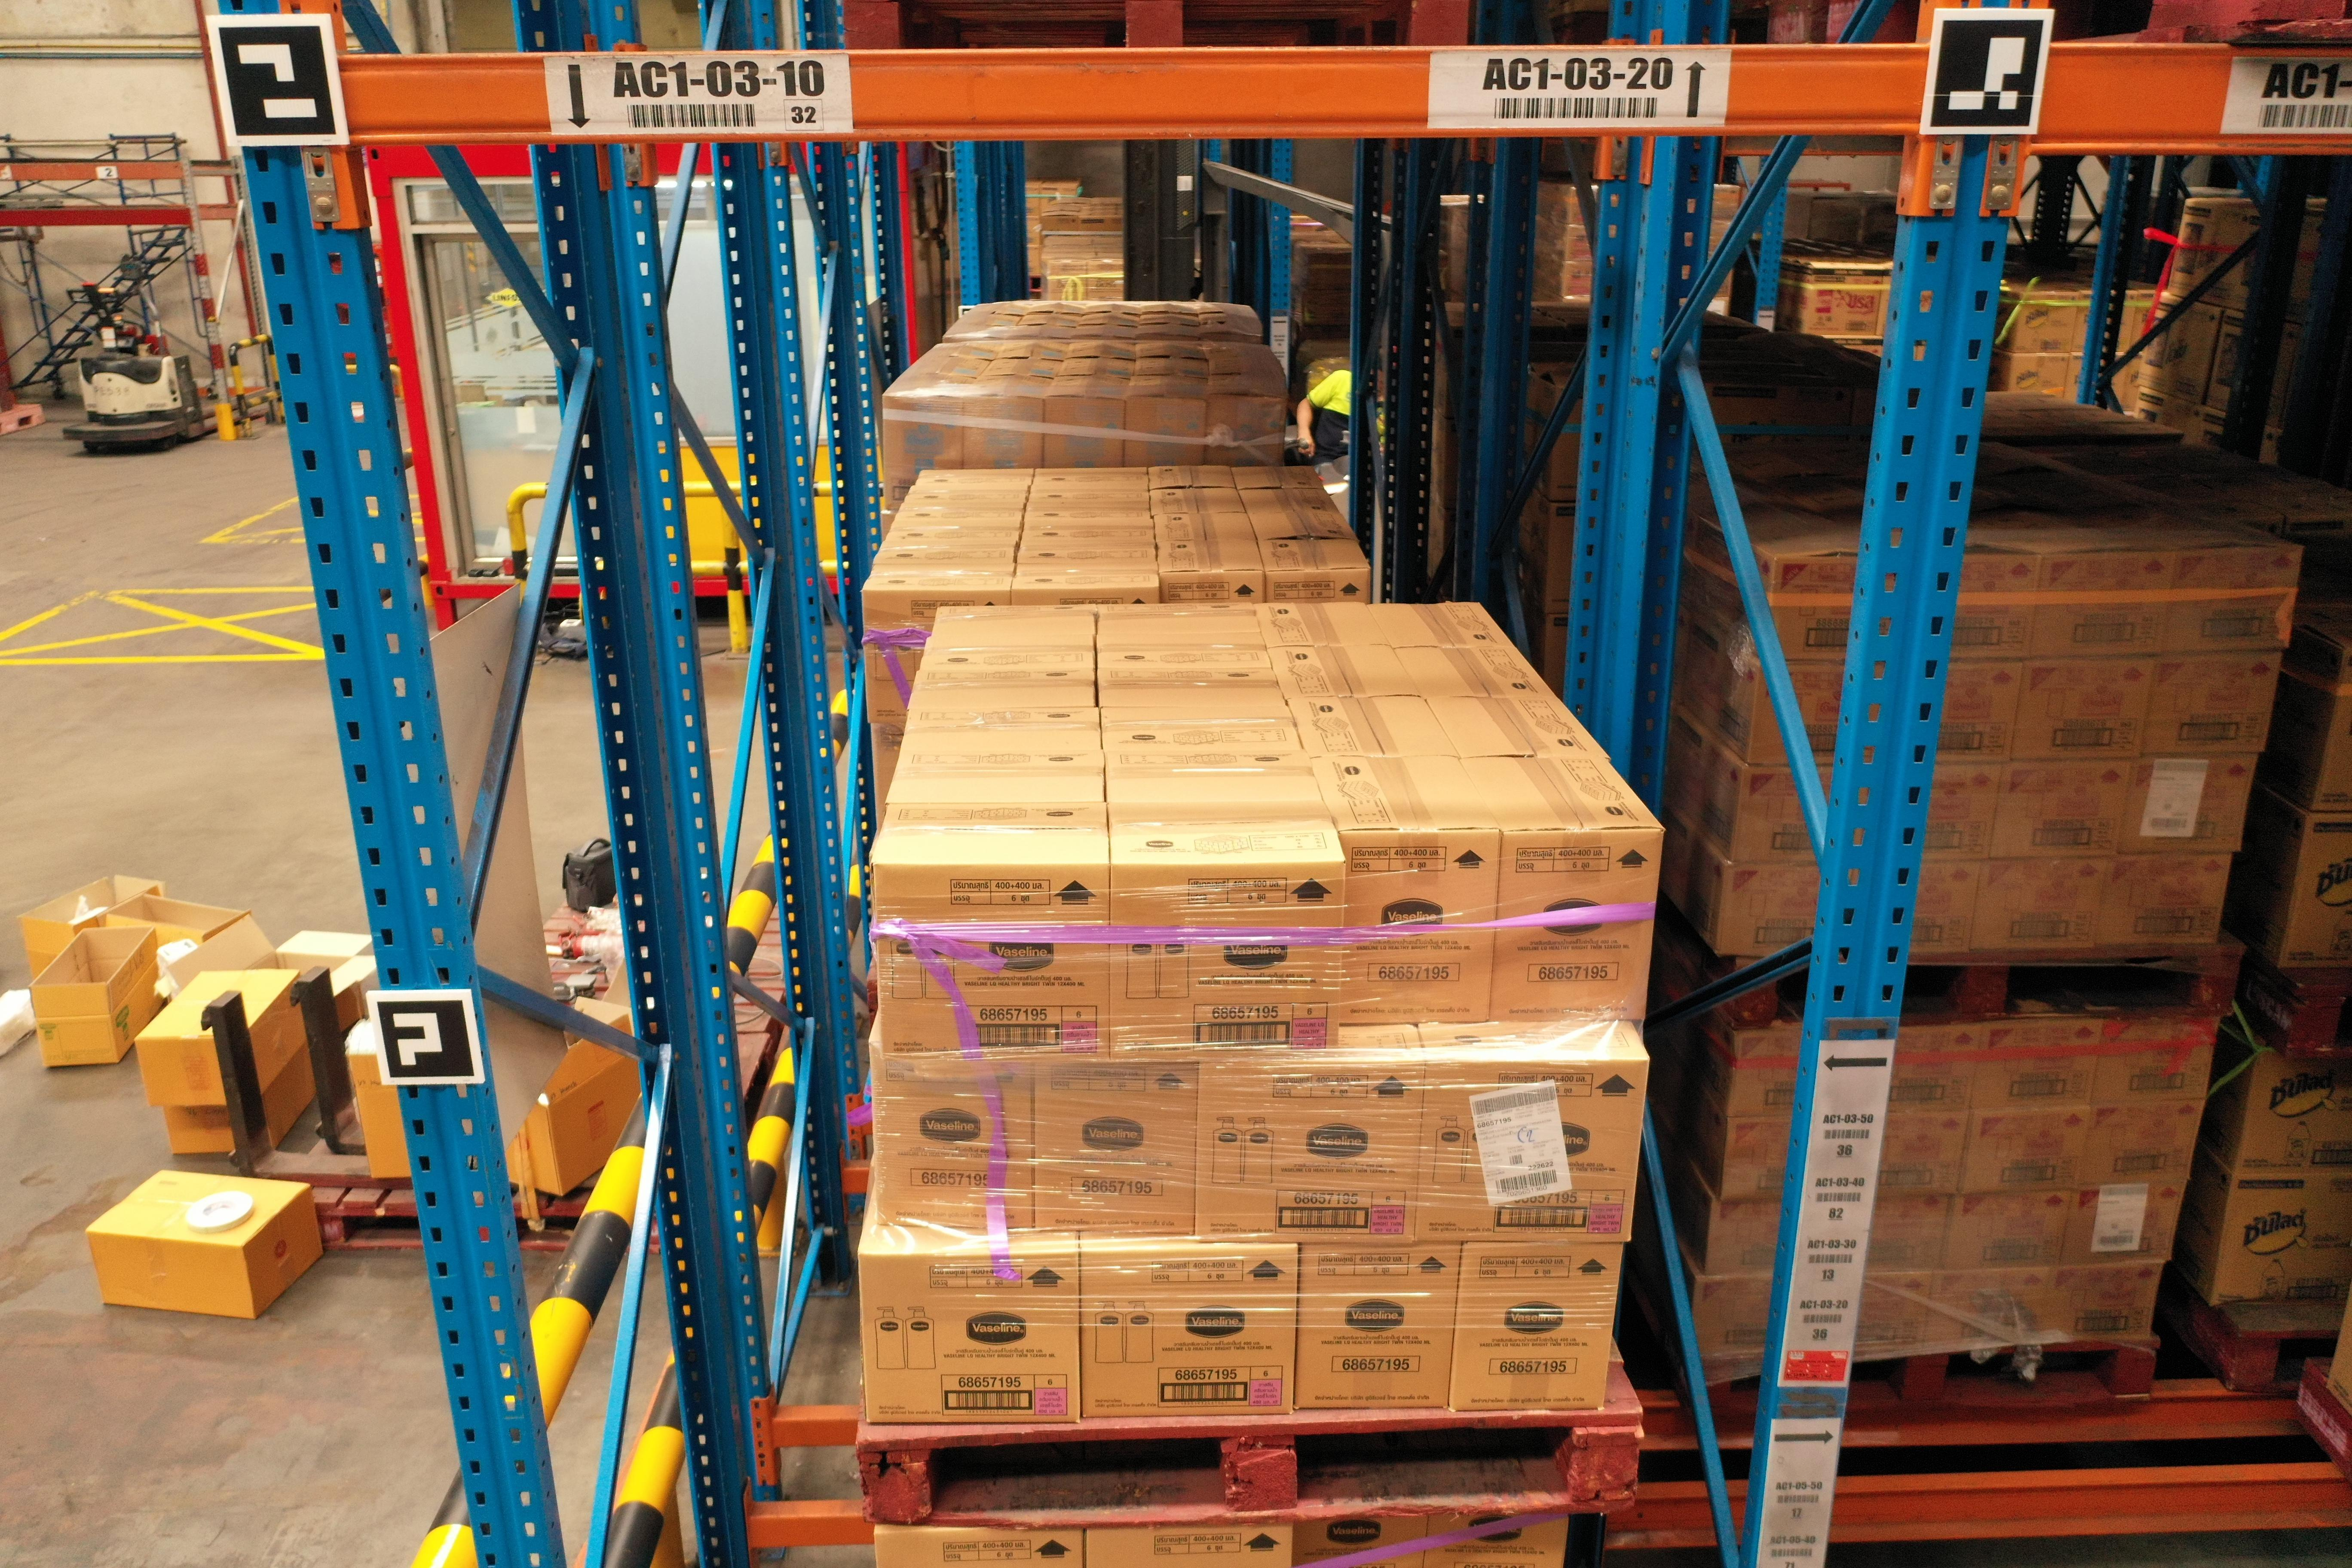-: (873, 864, 1113, 1062), (1111, 864, 1347, 1062), (1412, 1060, 1648, 1246), (1195, 1060, 1426, 1246), (859, 1251, 1081, 1426), (1081, 1248, 1297, 1416), (1491, 831, 1664, 1020), (1337, 831, 1501, 1027), (870, 1046, 1032, 1232), (1451, 1242, 1624, 1416), (1032, 1060, 1199, 1239), (1295, 1242, 1463, 1409), (1083, 1524, 1291, 1568), (877, 1526, 1087, 1568), (1424, 1512, 1568, 1568), (1293, 1517, 1426, 1568)
box: (2212, 1169, 2352, 1307), (2030, 551, 2173, 661), (2138, 649, 2280, 758), (2009, 658, 2156, 761), (2166, 546, 2301, 656), (1990, 758, 2133, 861), (2233, 1050, 2352, 1172), (2119, 754, 2259, 857), (1953, 1106, 2093, 1200), (1970, 857, 2116, 948), (2100, 849, 2233, 947), (1974, 1018, 2102, 1118), (2093, 1015, 2221, 1115), (2070, 1101, 2205, 1193), (1920, 1269, 2060, 1351), (2277, 815, 2352, 968), (1939, 1190, 2074, 1274), (2060, 1185, 2187, 1272), (1766, 555, 1862, 665), (1715, 863, 1823, 959), (1734, 766, 1837, 864), (2049, 1258, 2165, 1346), (1951, 555, 2040, 667), (1750, 663, 1844, 768), (1888, 1025, 1983, 1118), (1939, 663, 2023, 763), (1925, 763, 2002, 863), (1876, 1118, 1969, 1200), (1864, 1195, 1956, 1276), (1727, 1031, 1804, 1120), (1913, 861, 1984, 955), (1692, 1279, 1774, 1358), (1857, 1272, 1935, 1353), (1720, 1120, 1792, 1207), (1706, 1204, 1785, 1277)
